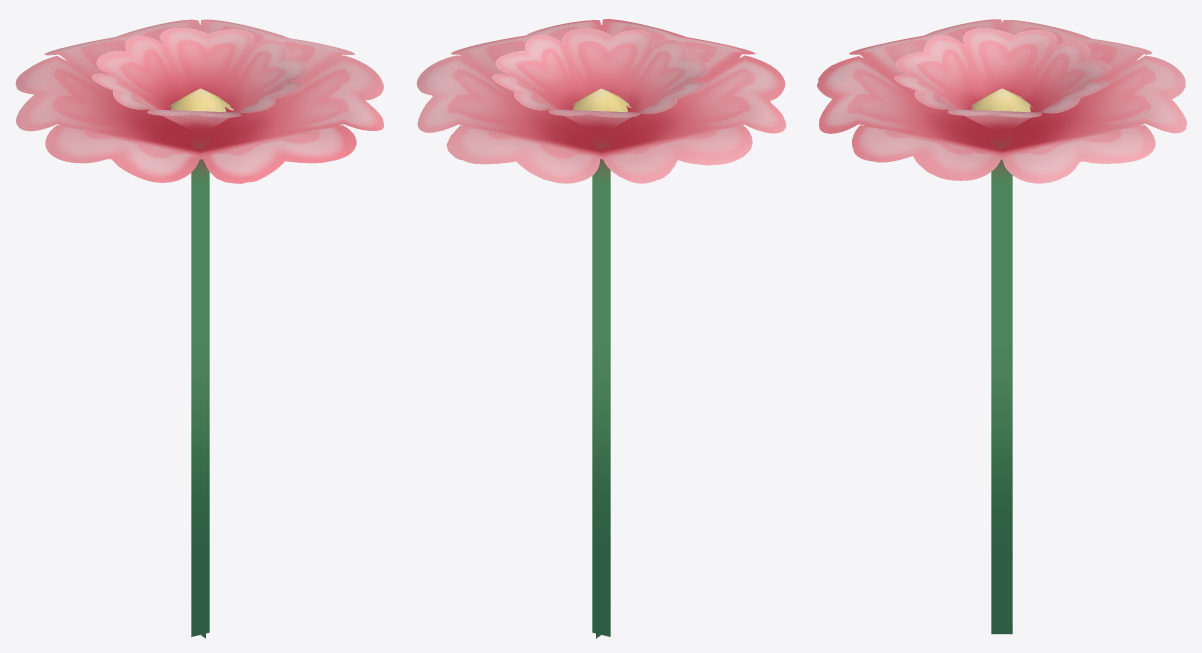
File: MODEL_lily1.fbx
3 renders of one model, left to right at view 1: azimuth 30°, elevation 25°; view 2: azimuth 150°, elevation 25°; view 3: azimuth 270°, elevation 25°, orthographic.
Visible parts, largest first — view 1: pPlane19; view 2: pPlane19; view 3: pPlane19.
Boxes of the visible parts, x1,y1,x2,y2 form: pPlane19: [15, 19, 384, 638]; pPlane19: [416, 19, 786, 638]; pPlane19: [817, 19, 1187, 634].
Bounding box in the file's own units: 29.99 × 43.33 × 25.98.
